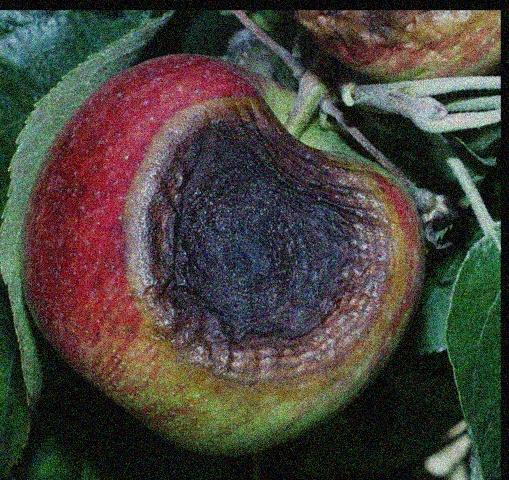rotten apple: (21, 55, 424, 455), (288, 11, 499, 82)
